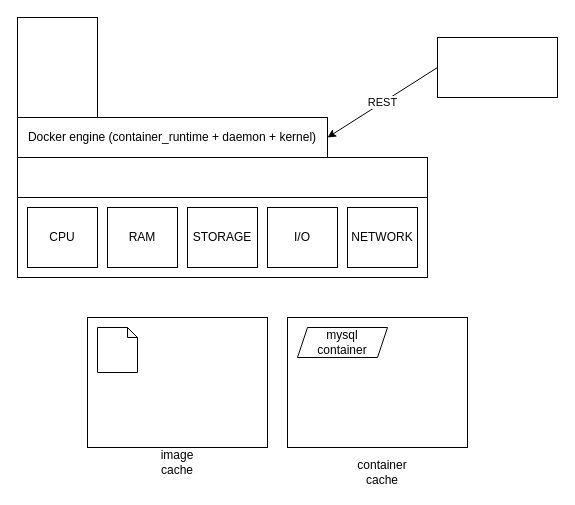
This 575x505 diagram has some shape labels left out. The centre of each missing label's shape, as x and y in pixels:
"docker client (CLI)" belongs at [497,67].
"Host OS" belongs at [222,177].
"mysql :latest" belongs at [117,349].
